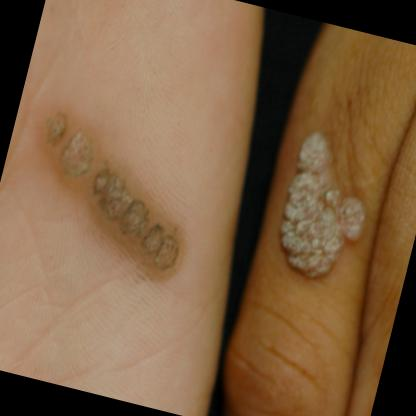Warts: (251, 106, 401, 312)
